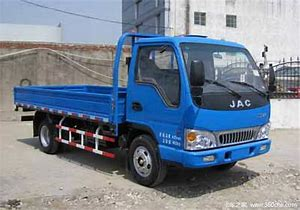smalltruck: (10, 31, 276, 186)
